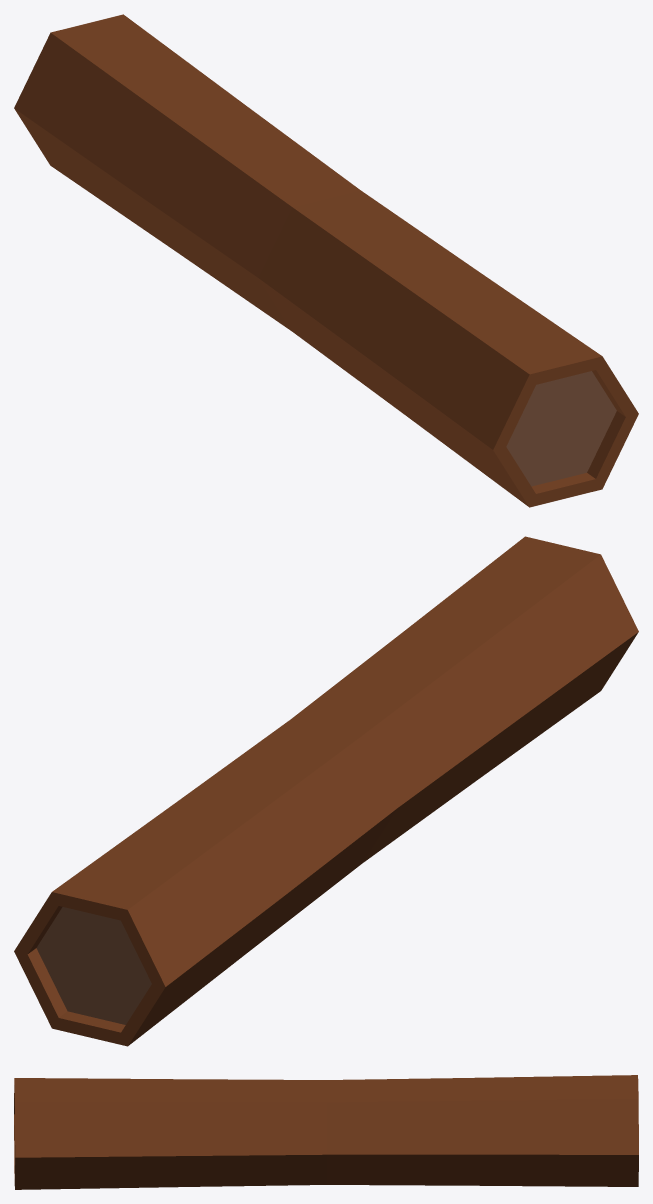
Rendered from LogAlone.fbx.
3 renders of one model, top to bottom at view 1: azimuth 30°, elevation 25°; view 2: azimuth 150°, elevation 25°; view 3: azimuth 270°, elevation 25°, orthographic. The views are drawn at different scales.
Visible parts, largest first — view 1: Wood_log; view 2: Wood_log; view 3: Wood_log.
Part boxes in pixels (left/top/right/bottom): Wood_log: left=14, top=14, right=638, bottom=507; Wood_log: left=14, top=536, right=638, bottom=1046; Wood_log: left=14, top=1075, right=638, bottom=1189.
Bounding box in the file's own units: 24.21 × 19.78 × 127.
